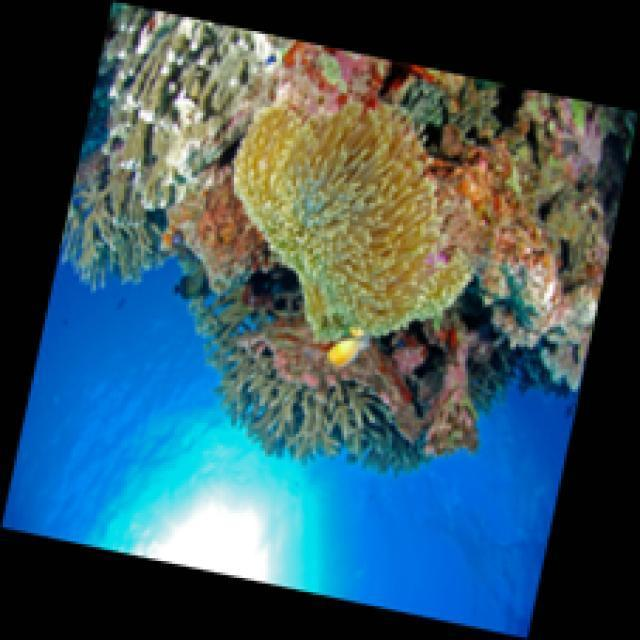Healthy: (233, 104, 475, 345), (427, 142, 554, 267), (282, 37, 388, 108)
